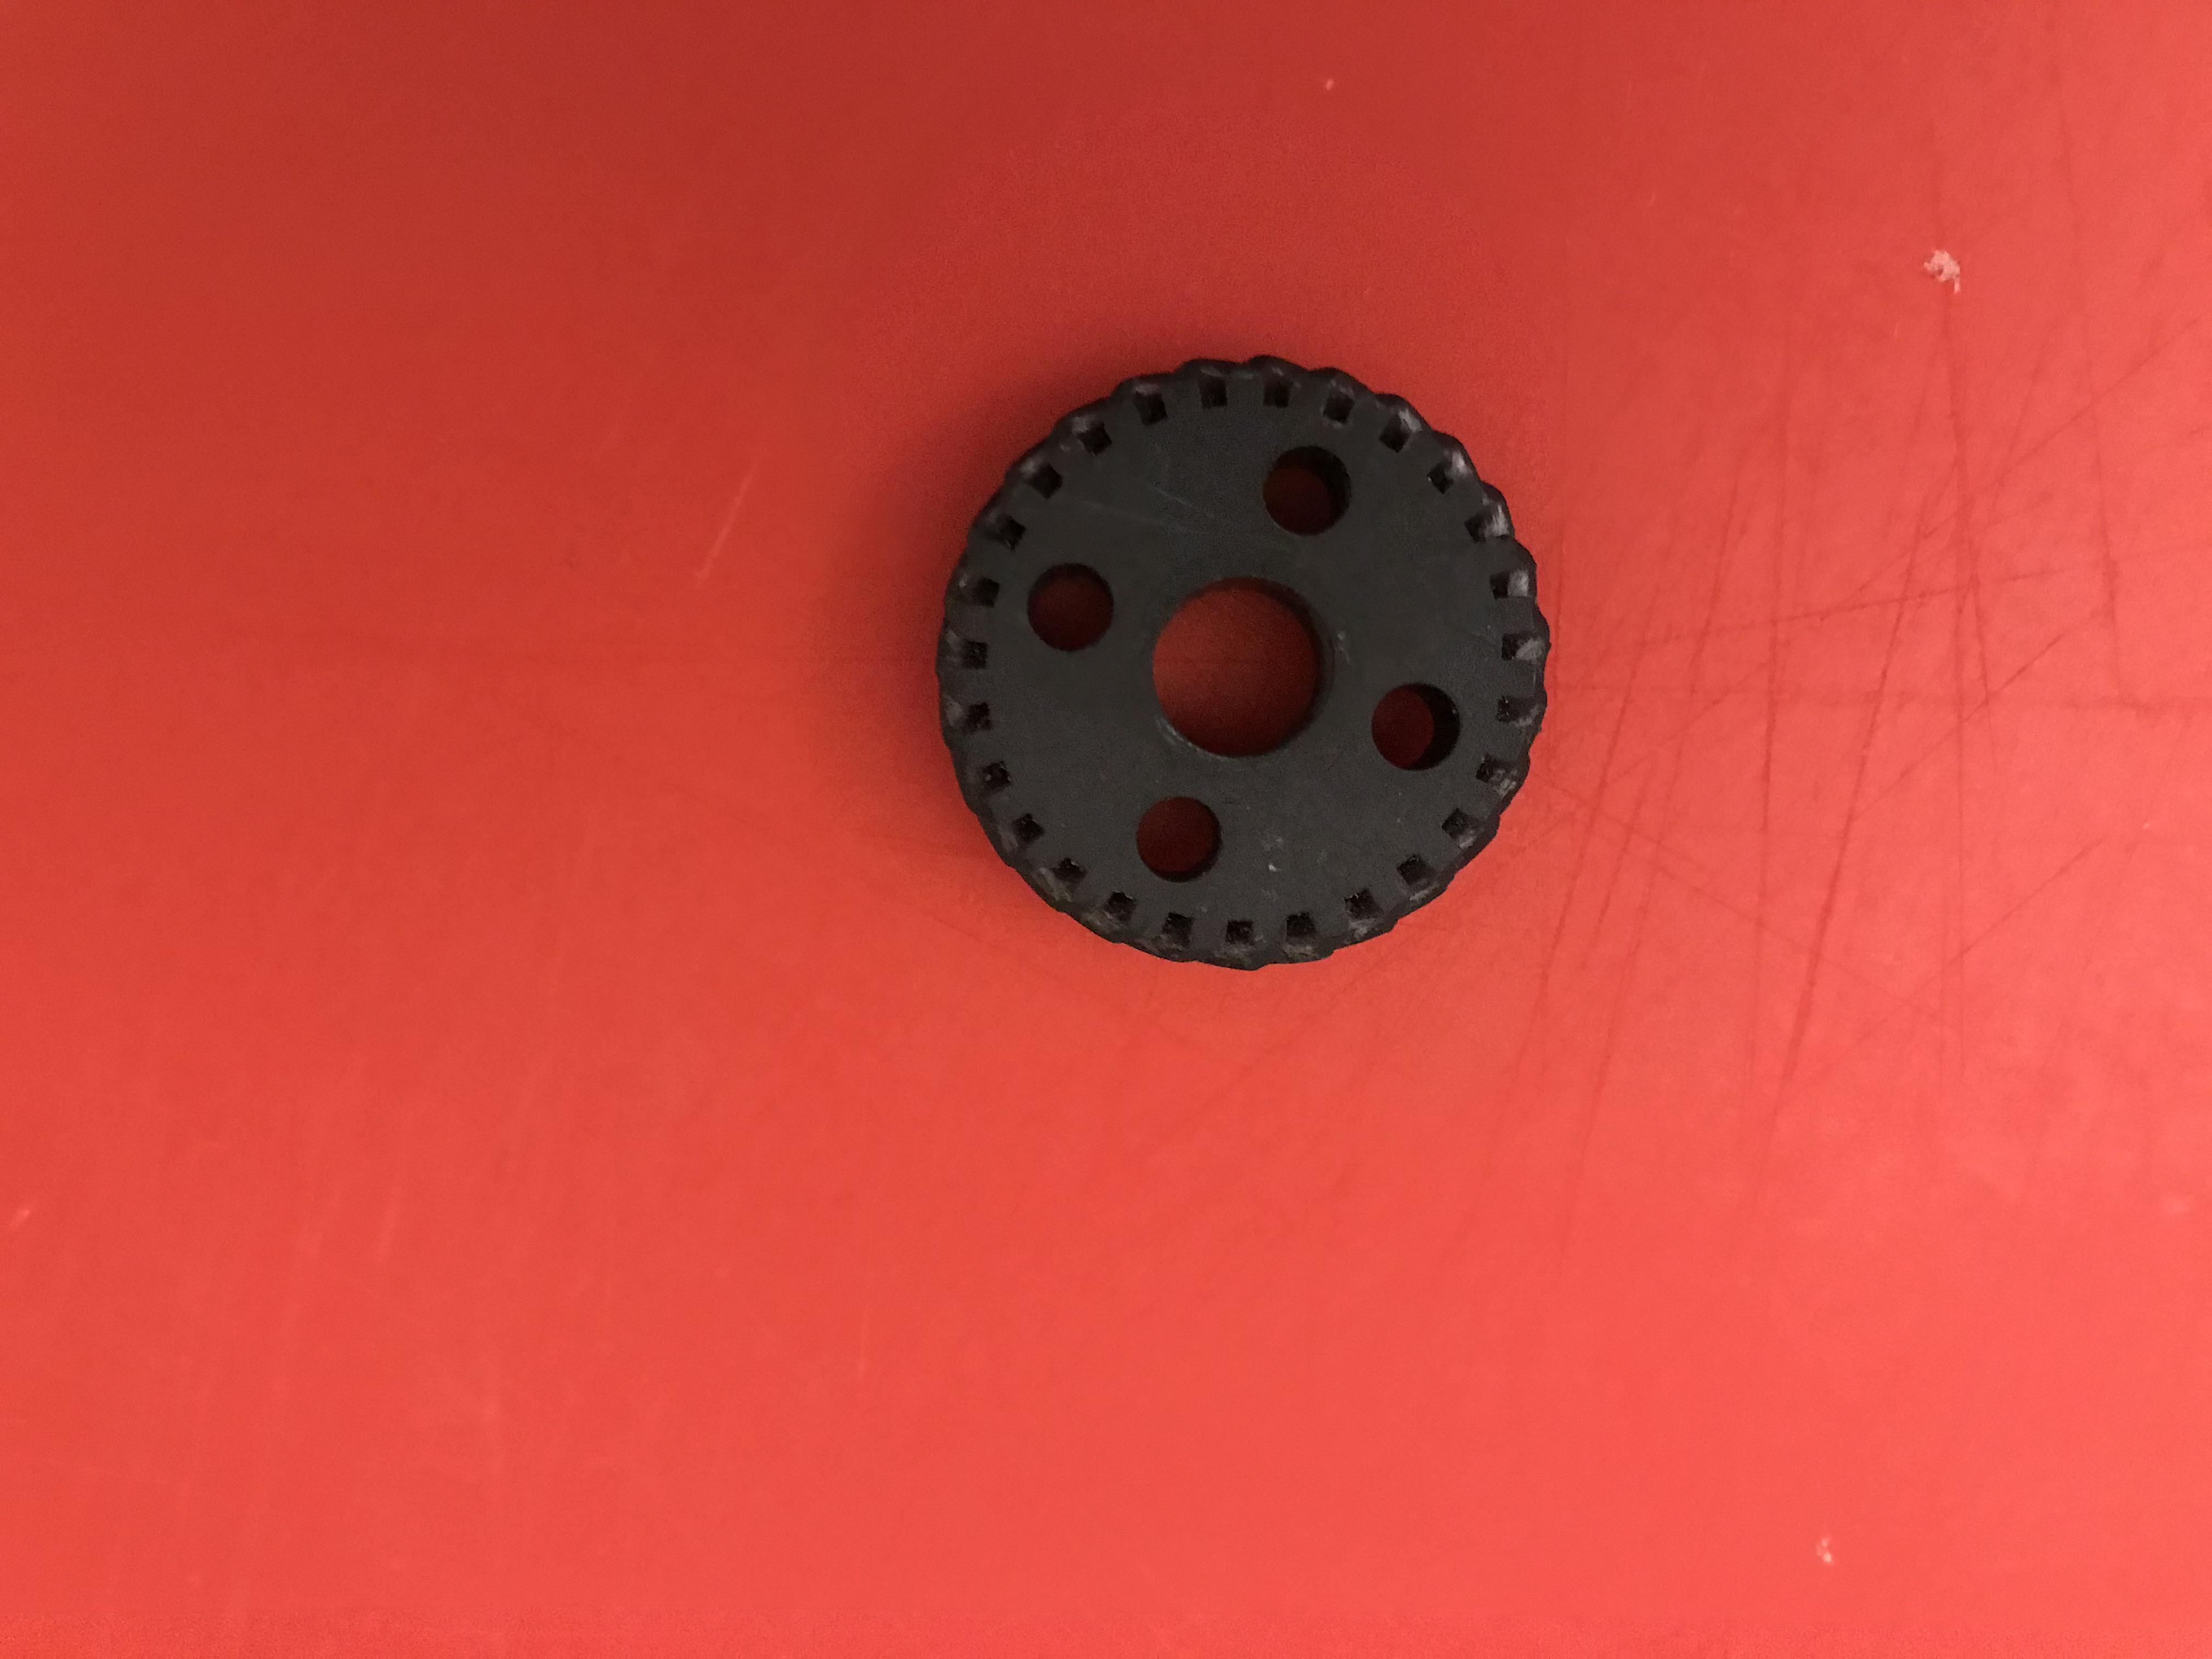Wheel: (939, 347, 1561, 983)
